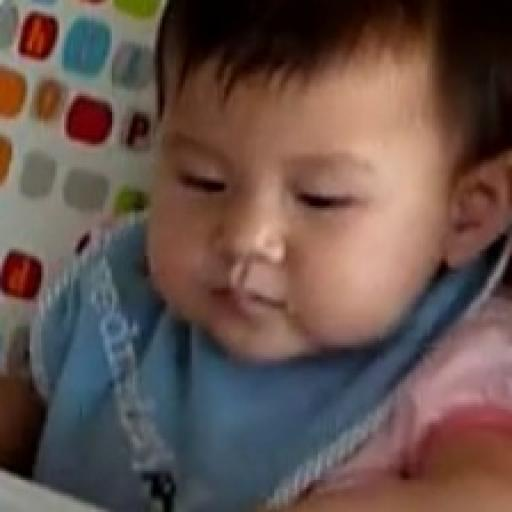Autism: (98, 26, 512, 410)
